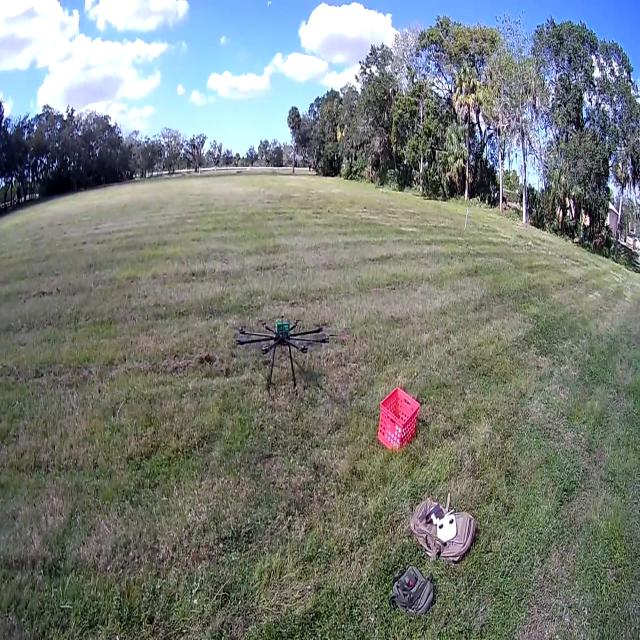drone: (235, 306, 333, 399)
